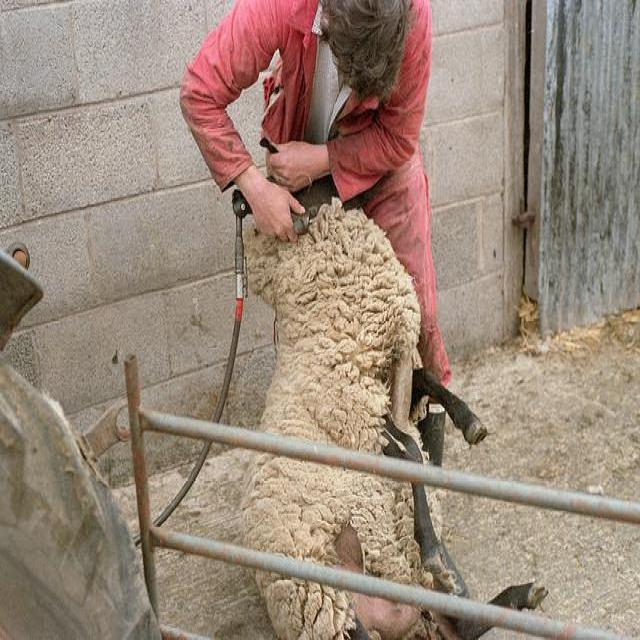Sheep: (240, 136, 550, 638)
